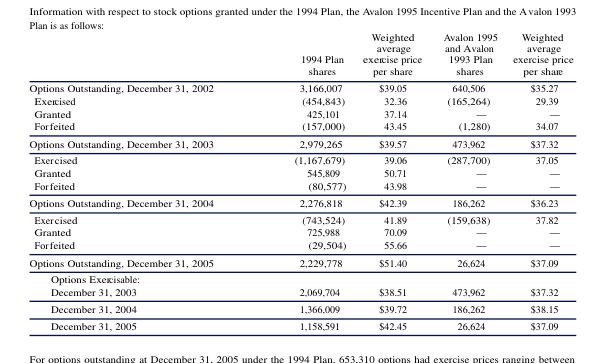table: (28, 28, 572, 331)
table column: (28, 28, 253, 331), (253, 28, 353, 331), (353, 28, 431, 331), (431, 28, 504, 331), (504, 28, 572, 331)
table column header: (28, 28, 572, 78)
table projected row header: (28, 269, 572, 284)
table row: (28, 28, 572, 78), (28, 134, 572, 151), (28, 193, 572, 210), (28, 252, 572, 269), (28, 299, 572, 316), (28, 78, 572, 93), (28, 119, 572, 134), (28, 178, 572, 193), (28, 210, 572, 225), (28, 237, 572, 252), (28, 269, 572, 284), (28, 284, 572, 299), (28, 316, 572, 331), (28, 151, 572, 165), (28, 93, 572, 106), (28, 106, 572, 119), (28, 165, 572, 178), (28, 225, 572, 237)
